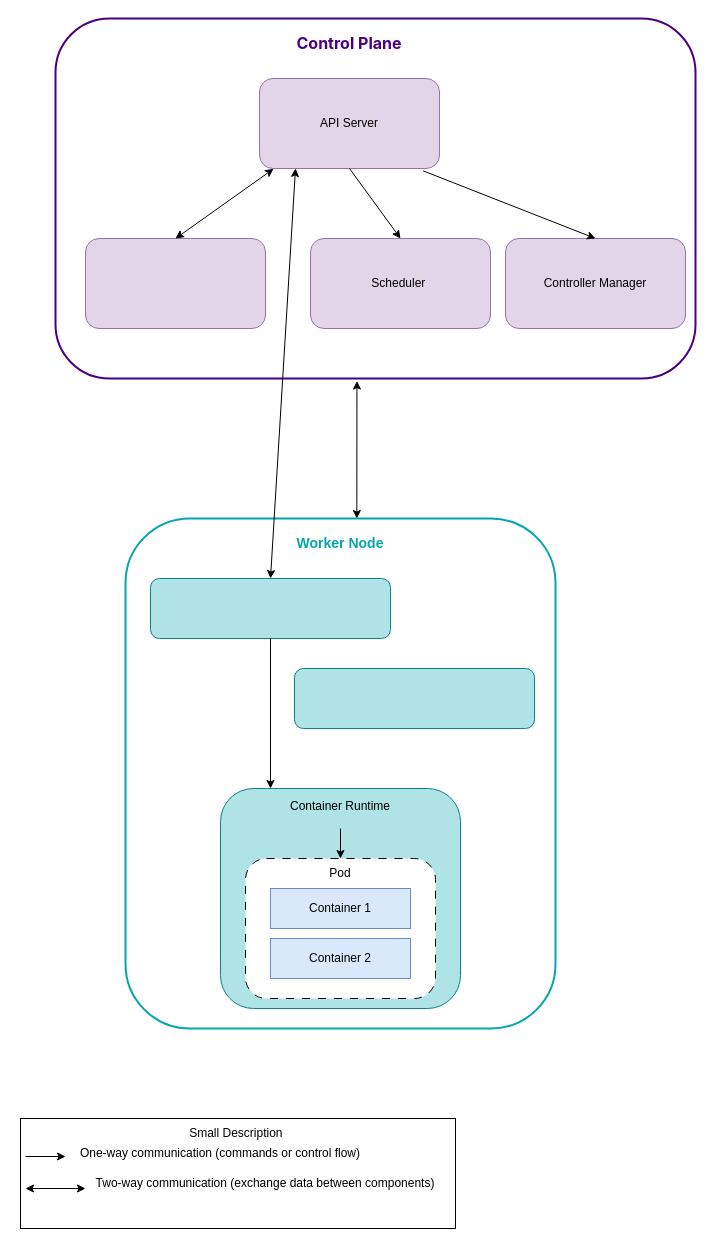
This 714x1246 diagram has some shape labels left out. Each missing label, with the centre of its shape:
etcd: (175,283)
kube-proxy: (414,698)
kubelet: (270,608)
